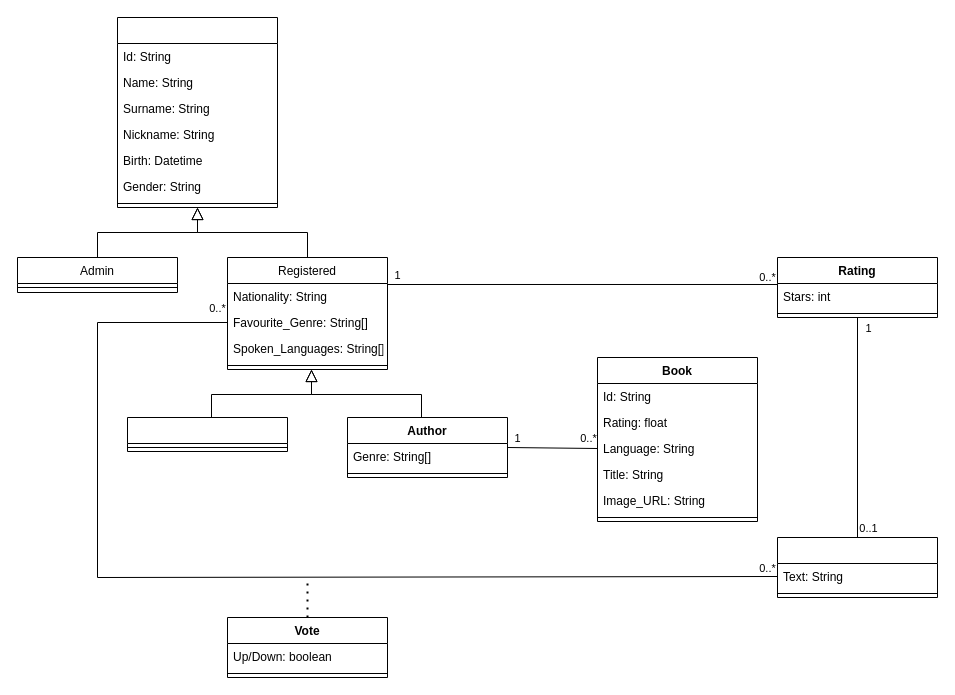
The diagram is 955 pixels wide and 695 high, and some of its shapes have lost their labels. The shapes that lost their labels are listed below. From the top down, each one's box as (x1, y1, x2, y2) in pixels, then its label:
(116, 16, 278, 208): User
(126, 416, 288, 452): Reviewer
(776, 536, 938, 598): Review
